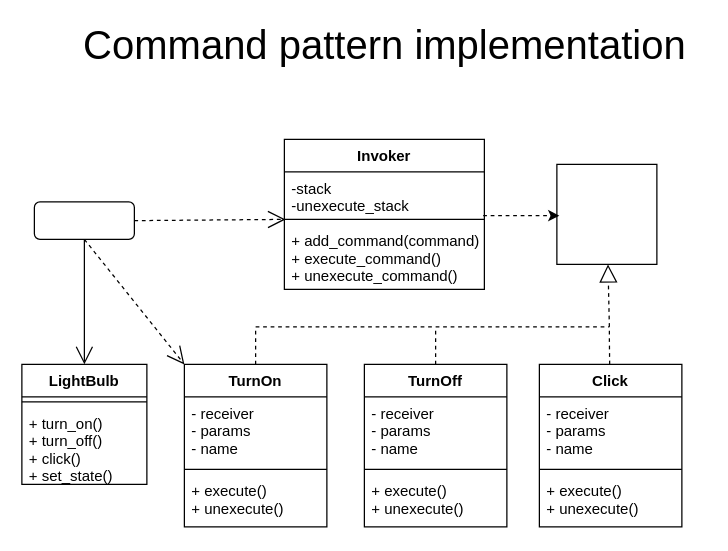
This 728x551 diagram has some shape labels left out. The centre of each missing label's shape, as x and y in pixels:
"<<Interface>> Command + execute() + unexecute()" goes at pixel 606 213.
"Client" goes at pixel 83 220.
